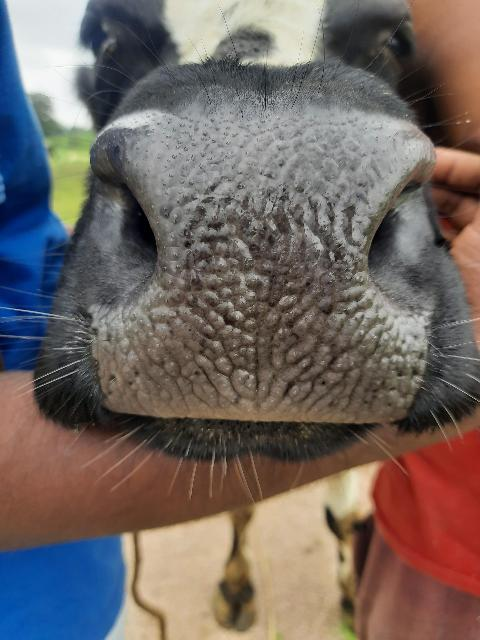Muzzle: (117, 122, 407, 432)
